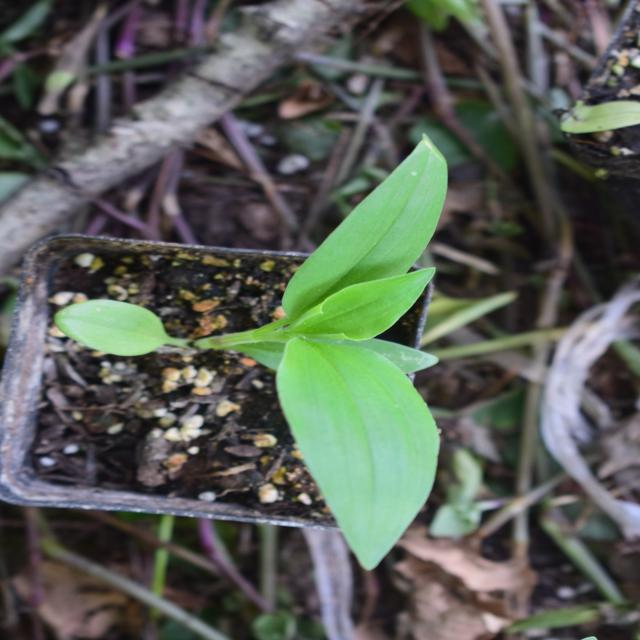Common Dayflower: (68, 267, 498, 468)
